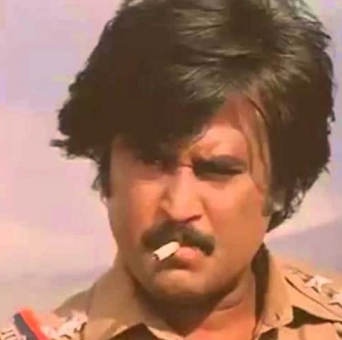cigarette: (142, 232, 191, 266)
